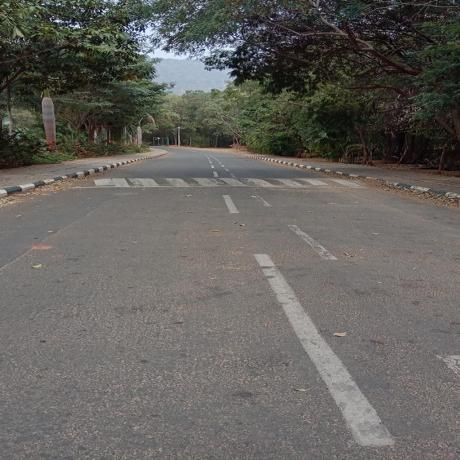Speed Bump: (62, 176, 368, 189)
